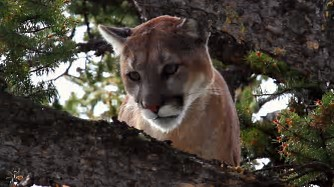Mountain Lion: (96, 12, 270, 132)
